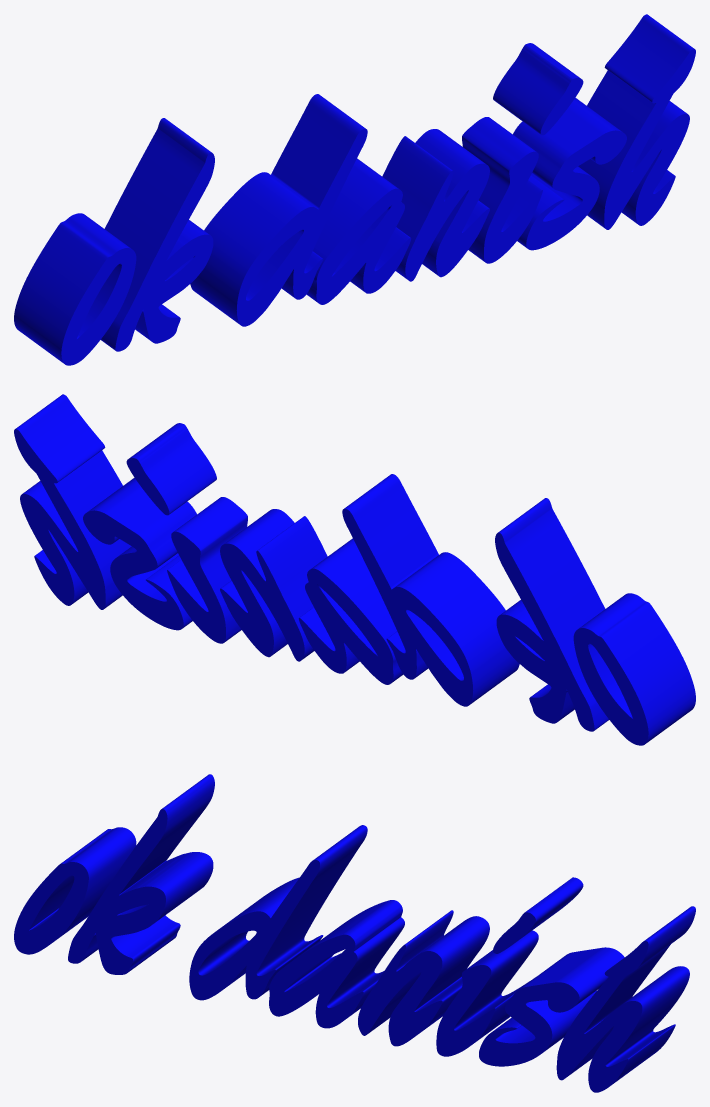
3 views of the same model, one above another, from view 1: azimuth 30°, elevation 25°; view 2: azimuth 150°, elevation 25°; view 3: azimuth 330°, elevation 25° (orthographic).
Visible parts, largest first — view 1: Text; view 2: Text; view 3: Text.
Part boxes in pixels (x1,y1,x2,y2): Text: (14,14,695,365); Text: (14,394,695,745); Text: (14,774,695,1092).
Bounding box in the file's own units: 3.47 × 0.9538 × 0.45.
